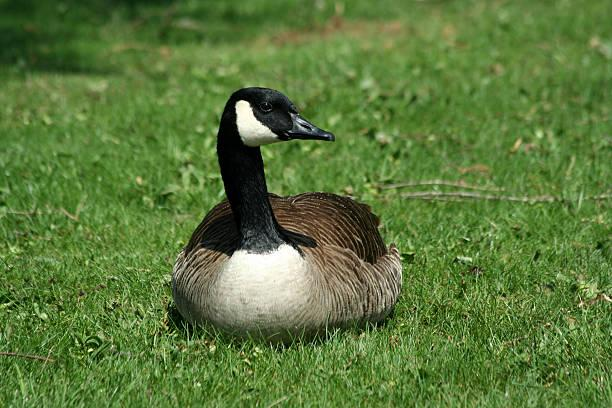Canadian-Goose: (168, 85, 406, 342)
